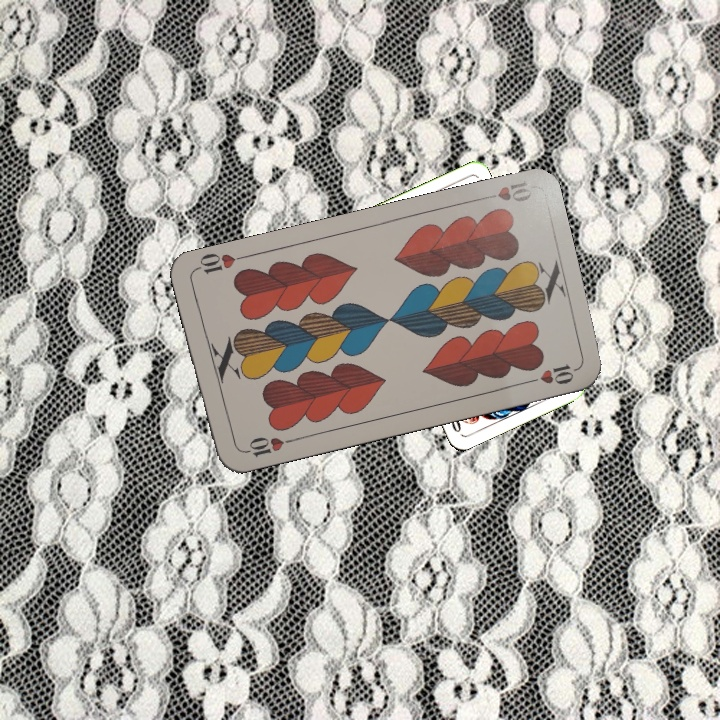H10: (475, 177, 534, 205), (238, 433, 296, 460)
